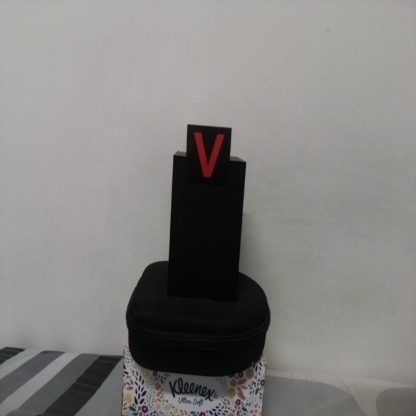id_11: (187, 125, 231, 196)
